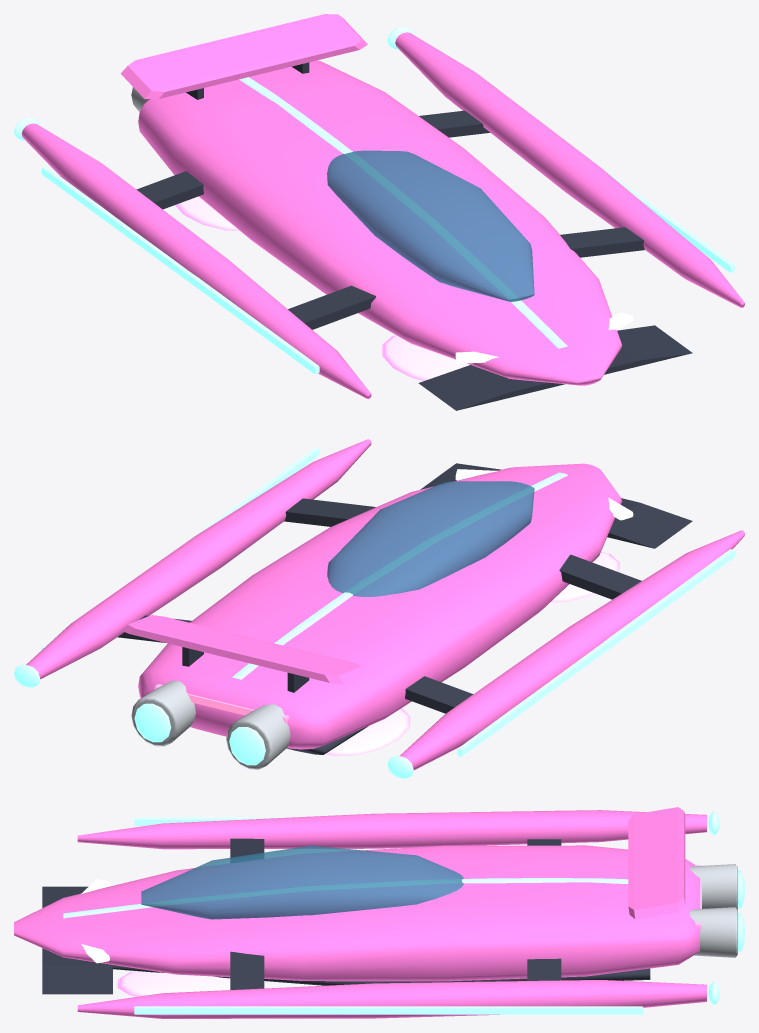
File: Vortex-R9-v3.0.0.glb
3 renders of one model, top to bottom at view 1: azimuth 30°, elevation 25°; view 2: azimuth 150°, elevation 25°; view 3: azimuth 270°, elevation 25°, orthographic. The views are drawn at different scales.
Parts seen in each view (by area): view 1: hull, canopy, outriggerBladeL, outriggerBladeR, spoiler, splitter, centreStripe, bladeEdgeR, hoverPadFrontR, strutFrontR, strutFrontL, strutRearR (+3 smaller); view 2: hull, canopy, outriggerBladeL, outriggerBladeR, spoiler, bladeEdgeR, splitter, centreStripe, thrusterR, thrusterL, strutFrontR, hoverPadRearR (+7 smaller); view 3: hull, canopy, outriggerBladeR, outriggerBladeL, spoiler, bladeEdgeL, splitter, centreStripe, hoverPadFrontL, thrusterL, thrusterR, chassisTray (+4 smaller).
Boxes of the visible parts, bbox=[...] form: hull: bbox=[138, 60, 622, 385]; canopy: bbox=[327, 150, 534, 301]; outriggerBladeL: bbox=[395, 32, 744, 307]; outriggerBladeR: bbox=[21, 123, 371, 399]; spoiler: bbox=[120, 14, 367, 98]; splitter: bbox=[418, 325, 692, 410]; centreStripe: bbox=[239, 77, 567, 348]; bladeEdgeR: bbox=[41, 166, 319, 373]; hoverPadFrontR: bbox=[381, 335, 469, 380]; strutFrontR: bbox=[288, 285, 375, 329]; strutFrontL: bbox=[560, 227, 644, 257]; strutRearR: bbox=[136, 171, 203, 209]; hull: bbox=[138, 463, 622, 749]; canopy: bbox=[327, 481, 534, 596]; outriggerBladeL: bbox=[26, 439, 371, 679]; outriggerBladeR: bbox=[399, 530, 744, 770]; spoiler: bbox=[121, 615, 367, 684]; bladeEdgeR: bbox=[457, 549, 735, 756]; splitter: bbox=[420, 463, 692, 548]; centreStripe: bbox=[232, 472, 567, 679]; thrusterR: bbox=[226, 704, 290, 769]; thrusterL: bbox=[131, 681, 195, 746]; strutFrontR: bbox=[559, 554, 641, 599]; hoverPadRearR: bbox=[325, 708, 410, 756]; hull: bbox=[14, 845, 699, 981]; canopy: bbox=[141, 845, 463, 919]; outriggerBladeR: bbox=[77, 810, 706, 849]; outriggerBladeL: bbox=[77, 980, 706, 1018]; spoiler: bbox=[628, 807, 685, 919]; bladeEdgeL: bbox=[134, 1006, 643, 1014]; splitter: bbox=[42, 886, 112, 994]; centreStripe: bbox=[63, 878, 628, 918]; hoverPadFrontL: bbox=[117, 971, 230, 996]; thrusterL: bbox=[689, 907, 737, 957]; thrusterR: bbox=[689, 864, 737, 909]; chassisTray: bbox=[113, 965, 650, 985].
Bounding box in the file's own units: 3.2 × 0.823 × 5.17.
